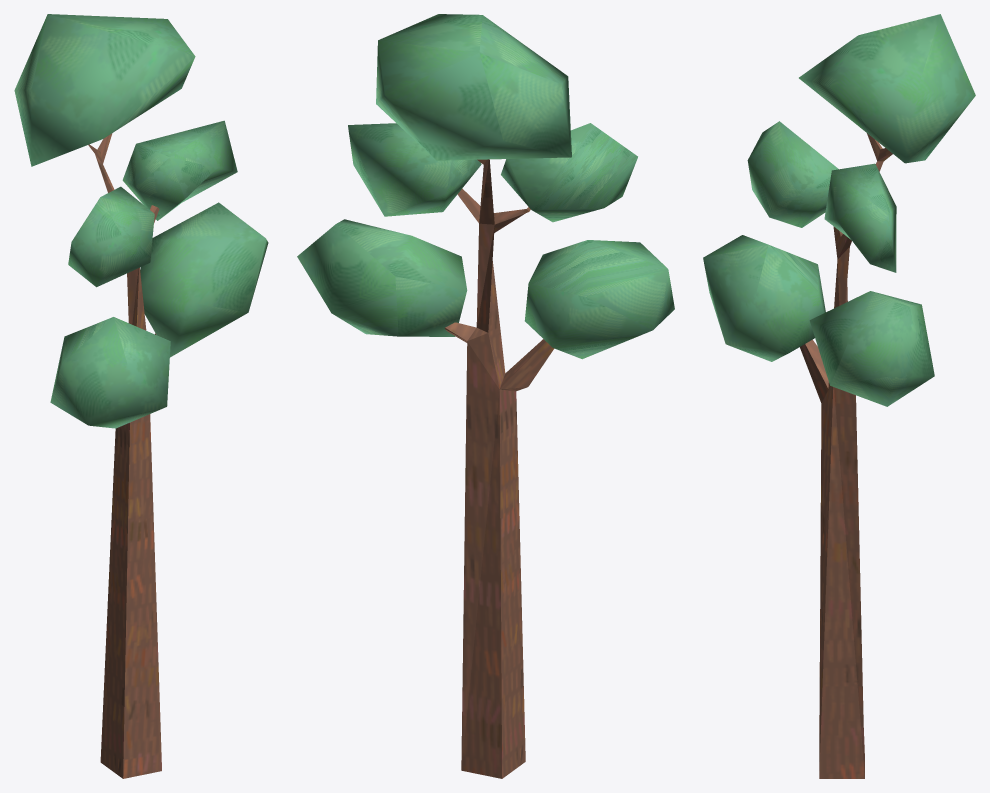
The model's file is tree1.fbx.
3 renders of one model, left to right at view 1: azimuth 30°, elevation 25°; view 2: azimuth 150°, elevation 25°; view 3: azimuth 270°, elevation 25°, orthographic. The views are drawn at different scales.
Parts seen in each view (by area): view 1: tree1; view 2: tree1; view 3: tree1.
Boxes of the visible parts, box(x1,y1,x2,y2) form: tree1: box(14, 14, 268, 778); tree1: box(297, 14, 674, 778); tree1: box(703, 14, 975, 778).
Size of the model in its own units: 273 by 675 by 226.
